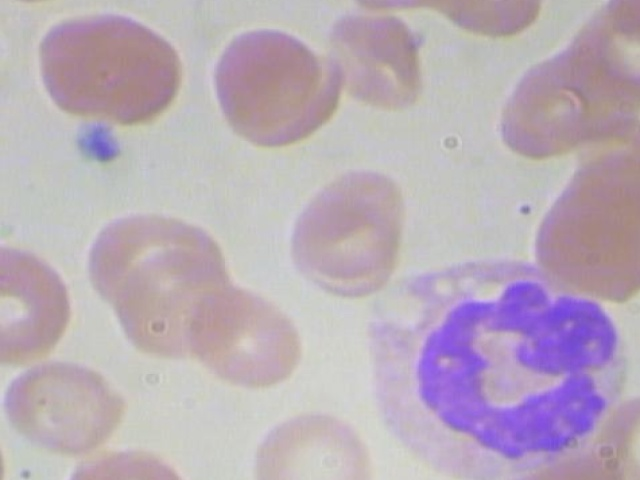Platelets: (66, 115, 123, 162)
RBC: (31, 10, 184, 130), (105, 244, 236, 366), (287, 162, 410, 287), (210, 16, 324, 136), (1, 357, 129, 460), (180, 285, 308, 387), (319, 9, 422, 117), (0, 241, 77, 373), (249, 411, 379, 480), (63, 444, 199, 480), (594, 390, 640, 480), (0, 413, 9, 480)
WBC: (343, 255, 640, 480)
